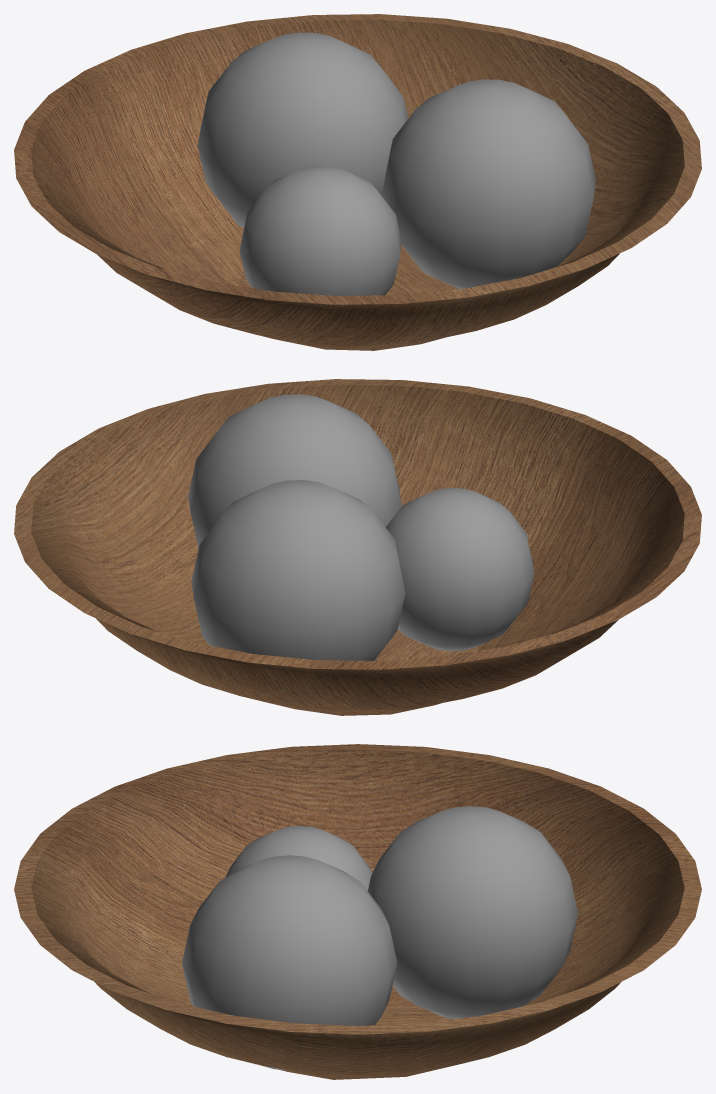
File: Vase 6.FBX
The picture shows the model from 3 angles, top to bottom: view 1: azimuth 30°, elevation 25°; view 2: azimuth 150°, elevation 25°; view 3: azimuth 270°, elevation 25°; orthographic projection.
Visible parts, largest first — view 1: vase 5, Sphere 2, Sphere 3, Sphere 1; view 2: vase 5, Sphere 3, Sphere 1, Sphere 2; view 3: vase 5, Sphere 3, Sphere 2, Sphere 1.
Part boxes in pixels (x1,y1,x2,y2): vase 5: (14,14,701,350); Sphere 2: (382,79,596,289); Sphere 3: (197,32,408,227); Sphere 1: (239,165,401,295); vase 5: (14,379,701,715); Sphere 3: (191,480,405,660); Sphere 1: (386,488,534,651); Sphere 2: (188,394,401,548); vase 5: (14,744,701,1079); Sphere 3: (367,806,578,1019); Sphere 2: (182,855,397,1070); Sphere 1: (225,826,372,890).
Size of the model in its own units: 413 by 141 by 413.
Materials: 2 (1 with a texture image).
